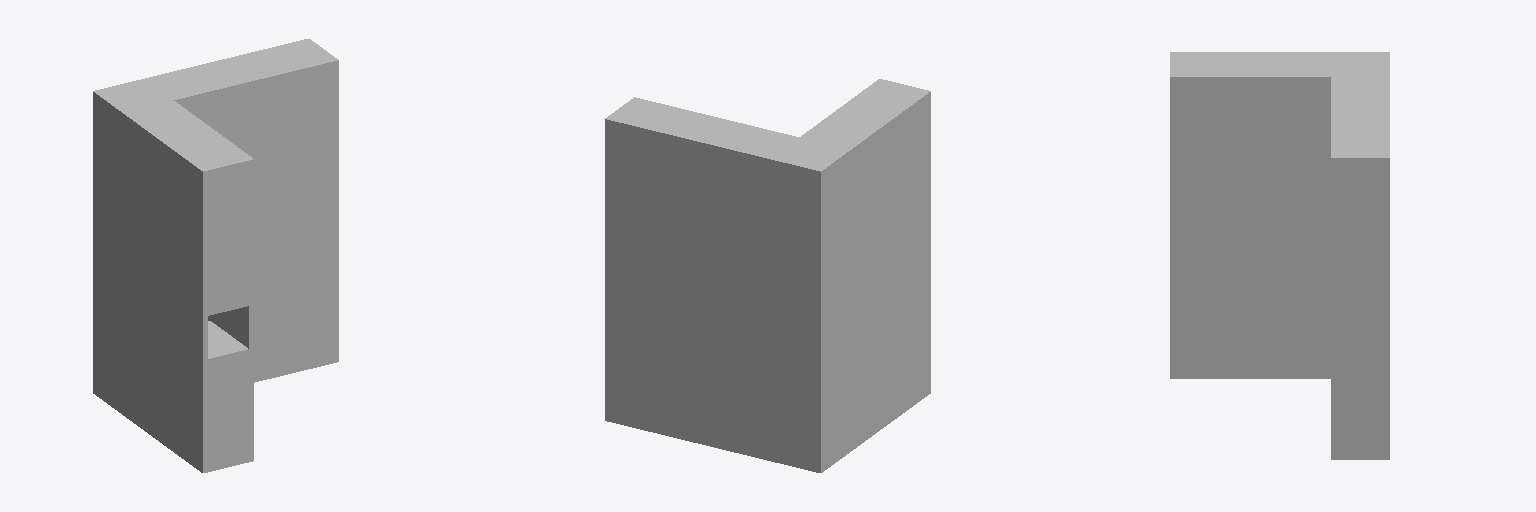
The model's file is level_2.obj.
3 renders of one model, left to right at view 1: azimuth 30°, elevation 25°; view 2: azimuth 150°, elevation 25°; view 3: azimuth 270°, elevation 25°, orthographic.
Visible parts, largest first — view 1: entity0_brush4, entity0_brush12, entity0_brush2, entity0_brush17, entity0_brush0, entity0_brush6, entity0_brush18, entity0_brush10, entity0_brush1, entity0_brush9, entity0_brush14, entity0_brush15 (+3 smaller); view 2: entity0_brush3, entity0_brush12, entity0_brush17, entity0_brush6, entity0_brush2, entity0_brush10, entity0_brush18, entity0_brush14, entity0_brush9, entity0_brush25, entity0_brush15, entity0_brush22 (+2 smaller); view 3: entity0_brush1, entity0_brush7, entity0_brush6, entity0_brush2, entity0_brush3, entity0_brush4, entity0_brush12.
Boxes of the visible parts, <box> form: entity0_brush4: <box>172,58,338,382</box>; entity0_brush12: <box>111,103,207,279</box>; entity0_brush2: <box>125,100,248,315</box>; entity0_brush17: <box>111,287,207,472</box>; entity0_brush0: <box>208,321,248,471</box>; entity0_brush6: <box>101,41,334,108</box>; entity0_brush18: <box>124,292,207,419</box>; entity0_brush10: <box>123,268,207,338</box>; entity0_brush1: <box>166,98,253,461</box>; entity0_brush9: <box>102,97,114,259</box>; entity0_brush14: <box>93,90,106,236</box>; entity0_brush15: <box>102,293,110,405</box>; entity0_brush3: <box>605,117,818,471</box>; entity0_brush12: <box>834,90,930,320</box>; entity0_brush17: <box>839,328,930,459</box>; entity0_brush6: <box>608,99,841,167</box>; entity0_brush2: <box>802,80,924,150</box>; entity0_brush10: <box>851,189,930,316</box>; entity0_brush18: <box>851,270,930,338</box>; entity0_brush14: <box>816,164,829,304</box>; entity0_brush9: <box>826,158,838,313</box>; entity0_brush25: <box>816,372,829,472</box>; entity0_brush15: <box>830,349,838,466</box>; entity0_brush22: <box>848,259,930,326</box>; entity0_brush1: <box>1170,75,1336,378</box>; entity0_brush7: <box>1337,163,1383,459</box>; entity0_brush6: <box>1337,55,1383,162</box>; entity0_brush2: <box>1170,55,1336,74</box>; entity0_brush3: <box>1384,55,1389,459</box>; entity0_brush4: <box>1331,77,1336,459</box>; entity0_brush12: <box>1170,52,1353,54</box>.
Bounding box in the file's own units: 672 × 896 × 592.